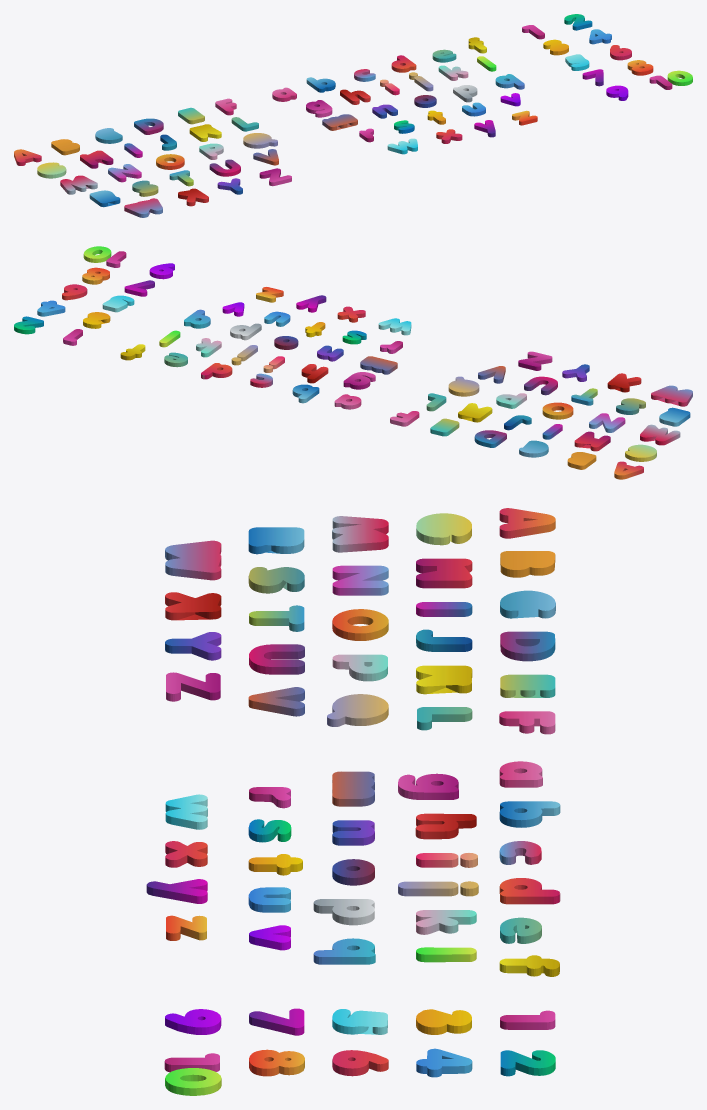
The model's file is Alphabets & Numbers New.fbx.
3 views of the same model, one above another, from view 1: azimuth 30°, elevation 25°; view 2: azimuth 150°, elevation 25°; view 3: azimuth 270°, elevation 25° (orthographic). The views are drawn at different scales.
Parts seen in each view (by area): view 1: 10, W, M, Q, m, H, G, N, K, O, D, R (+15 smaller); view 2: 10, W, M, m, Q, H, G, O, D, K, N, Z (+18 smaller); view 3: 10, W, M, N, H, Q, U, K, G, D, O, m (+46 smaller).
Boxes of the visible parts, left/top/right/bottom form: 10: left=649, top=70, right=692, bottom=89; W: left=124, top=198, right=162, bottom=217; M: left=60, top=175, right=97, bottom=194; Q: left=243, top=133, right=277, bottom=148; m: left=322, top=114, right=357, bottom=130; H: left=80, top=150, right=113, bottom=168; G: left=37, top=162, right=66, bottom=178; N: left=108, top=164, right=141, bottom=182; K: left=189, top=124, right=221, bottom=141; O: left=156, top=154, right=184, bottom=169; D: left=134, top=118, right=163, bottom=134; R: left=89, top=190, right=120, bottom=207; 10: left=83, top=246, right=126, bottom=267; W: left=651, top=385, right=692, bottom=406; M: left=640, top=424, right=680, bottom=445; m: left=360, top=356, right=397, bottom=374; Q: left=448, top=376, right=479, bottom=396; H: left=574, top=431, right=610, bottom=451; G: left=625, top=444, right=656, bottom=461; O: left=542, top=402, right=573, bottom=419; D: left=474, top=430, right=506, bottom=447; K: left=458, top=403, right=492, bottom=422; N: left=589, top=413, right=625, bottom=432; Z: left=518, top=351, right=552, bottom=370; 10: left=164, top=1053, right=221, bottom=1095; W: left=165, top=540, right=221, bottom=580; M: left=332, top=516, right=388, bottom=552; N: left=332, top=565, right=388, bottom=595; H: left=416, top=558, right=472, bottom=588; Q: left=327, top=694, right=388, bottom=726; U: left=249, top=644, right=304, bottom=674; K: left=416, top=665, right=472, bottom=694; G: left=416, top=513, right=471, bottom=545; D: left=500, top=631, right=555, bottom=661; O: left=332, top=609, right=388, bottom=640; m: left=332, top=771, right=374, bottom=806.
Bounding box in the file's own units: 1641 × 10.09 × 494.
